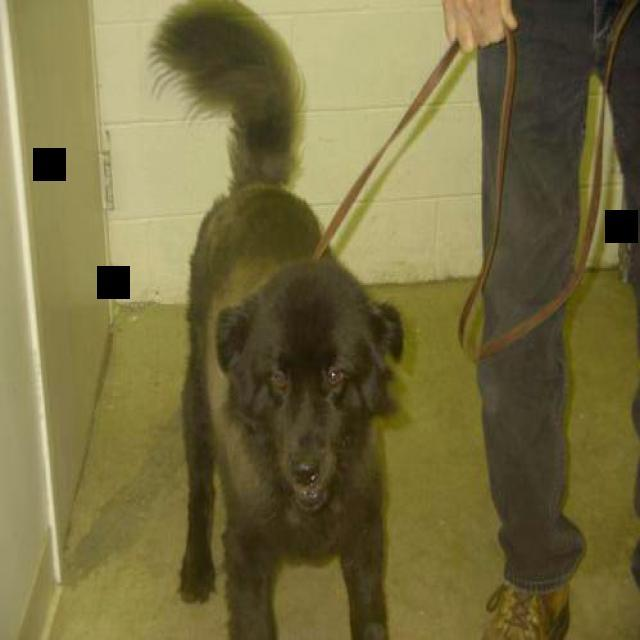adult_dog: (140, 1, 411, 640)
non-dog: (442, 0, 640, 640)
